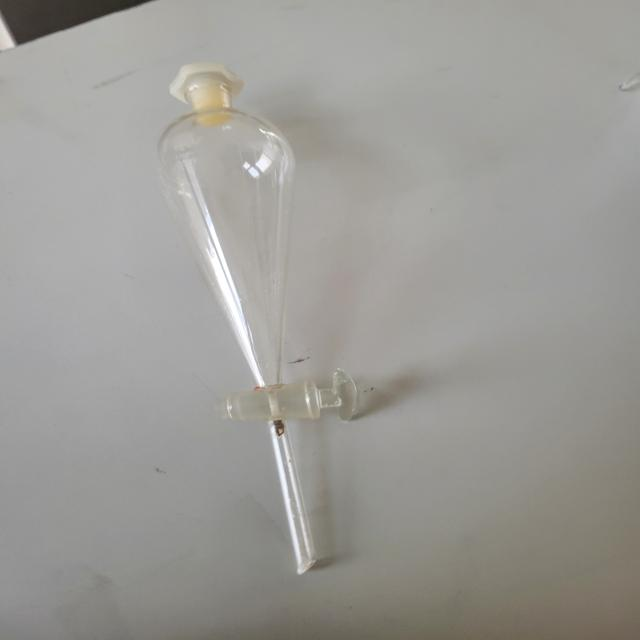Separating_Funnel: (127, 45, 409, 599)
